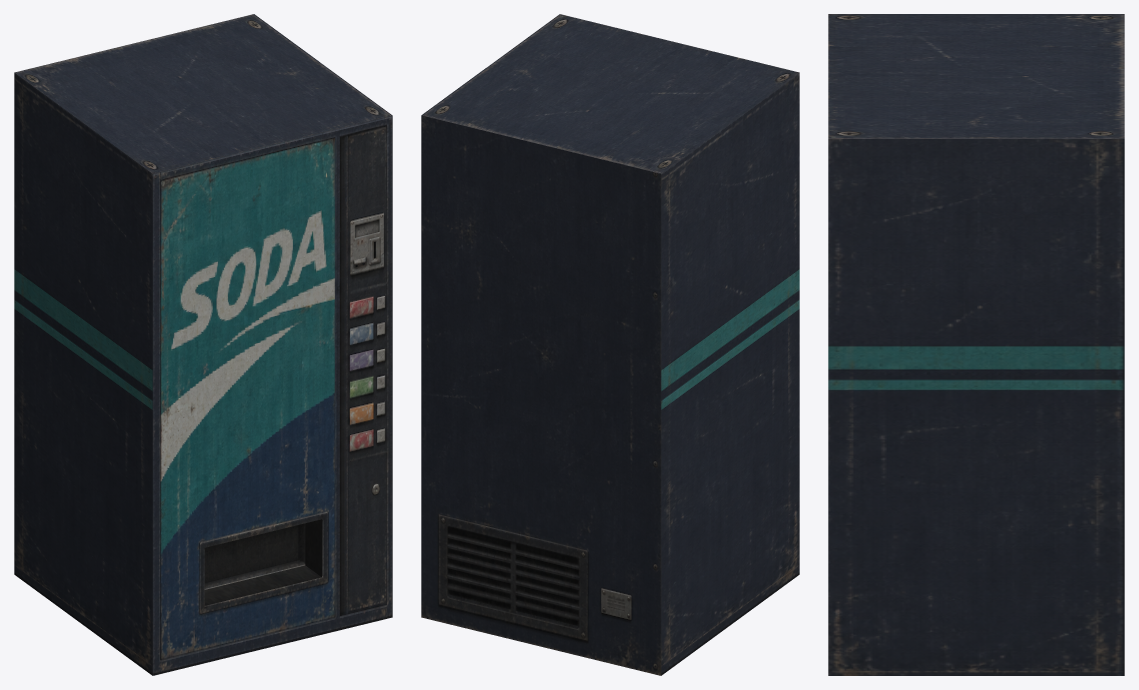
File: vending.glb
The picture shows the model from 3 angles, left to right: view 1: azimuth 30°, elevation 25°; view 2: azimuth 150°, elevation 25°; view 3: azimuth 270°, elevation 25°; orthographic projection. The views are drawn at different scales.
Parts seen in each view (by area): view 1: Cube; view 2: Cube; view 3: Cube.
Boxes of the visible parts, left/top/right/bottom form: Cube: left=14, top=14, right=392, bottom=675; Cube: left=421, top=14, right=799, bottom=675; Cube: left=828, top=14, right=1124, bottom=675.
Size of the model in its own units: 2 by 4 by 2.
1 material, 1 textured.
